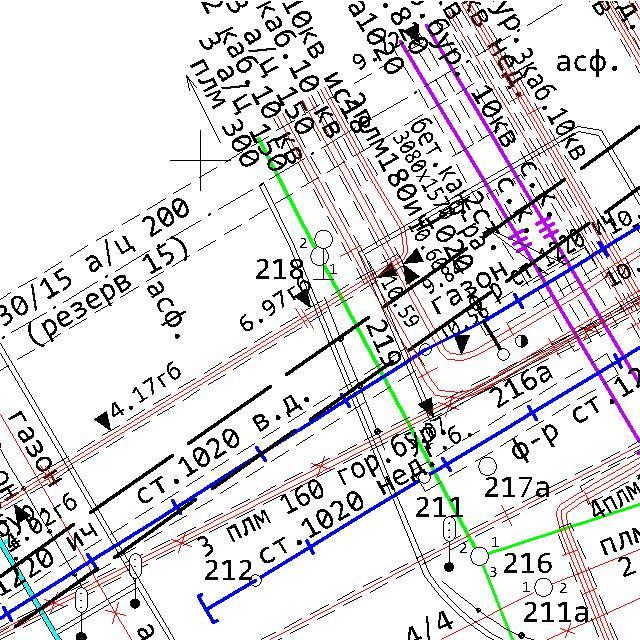asphalt: (146, 279, 187, 341), (553, 48, 620, 78)
mark: (400, 265, 421, 286), (12, 502, 32, 524), (403, 22, 422, 45), (93, 409, 112, 432), (293, 287, 312, 309), (417, 395, 435, 418), (402, 247, 424, 265), (376, 261, 398, 279), (454, 333, 471, 356)
sing: (312, 228, 336, 282)
well: (468, 544, 491, 568), (532, 576, 555, 599), (476, 455, 498, 477), (246, 571, 264, 590)
